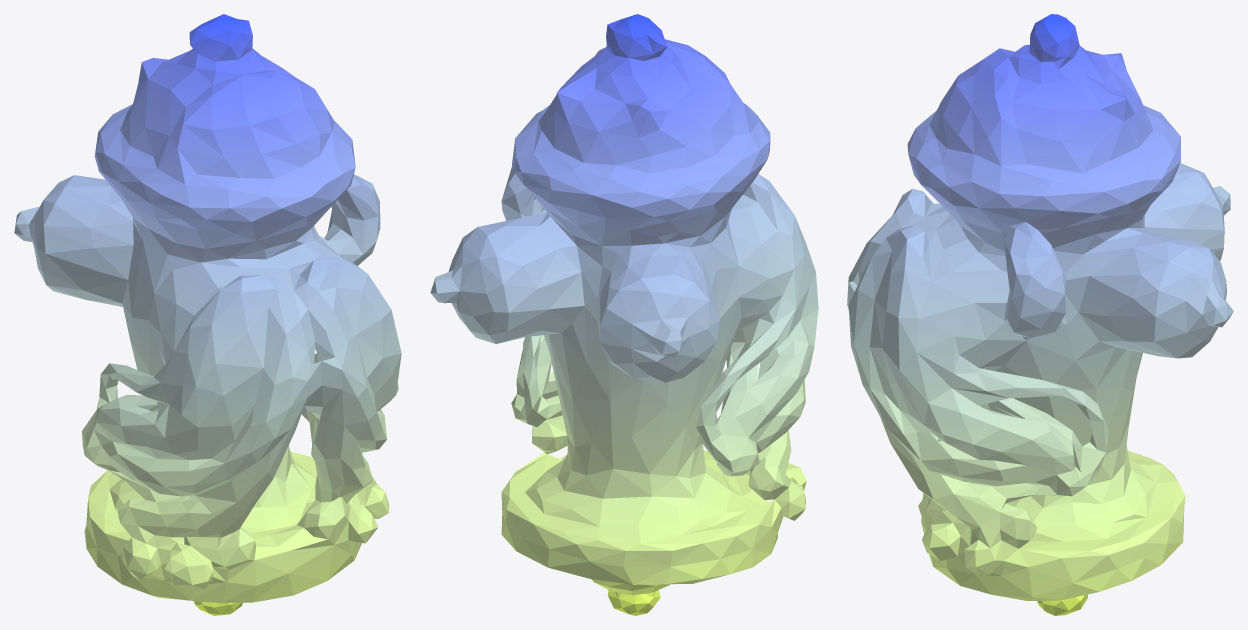
Rendered from 160_cyb_laser_gradient_fish_scales_2985_2026_10_03_8cffd0.glb.
The picture shows the model from 3 angles, left to right: view 1: azimuth 30°, elevation 25°; view 2: azimuth 150°, elevation 25°; view 3: azimuth 270°, elevation 25°; orthographic projection.
Visible parts, largest first — view 1: geometry_0; view 2: geometry_0; view 3: geometry_0.
Boxes of the visible parts, x1,y1,x2,y2 form: geometry_0: (14,14,401,615); geometry_0: (430,14,818,615); geometry_0: (847,14,1233,615).
Size of the model in its own units: 0.4804 by 0.9957 by 0.5877.
